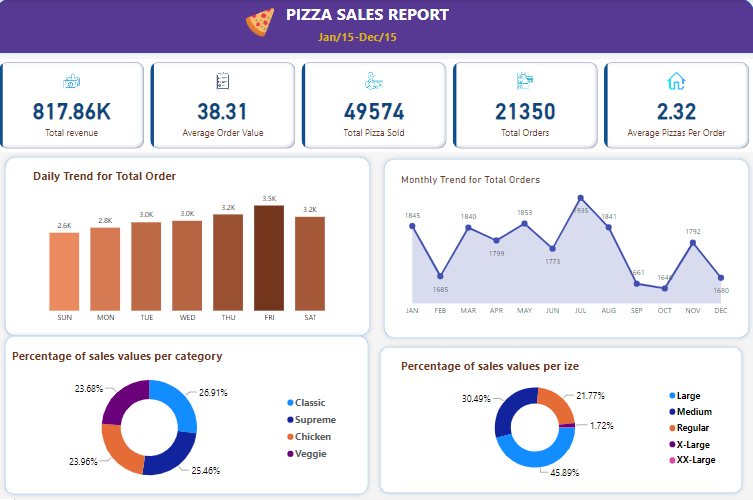

What the dashboard file says about the page in this screenshot:
{"tool":"powerbi","page":{"name":"Page 1","canvas":[1500,820],"ordinal":0},"visuals":[{"type":"cardVisual","fields":{"Data":["schema1 pizza_sales.Total revenue","schema1 pizza_sales.Average Order Value","schema1 pizza_sales.Total Pizza Sold","schema1 pizza_sales.Total Orders","schema1 pizza_sales.Average Pizzas Per Order"]},"box":[146,98.4,1243.1,152.5],"z":0},{"type":"shape","box":[146,0,1243.1,88.6],"z":1000},{"type":"textbox","box":[592,0,326.4,65.6],"z":2000},{"type":"textbox","box":[669.1,44.3,172.2,54.1],"z":3000},{"type":"image","box":[549.4,4.9,59,67.2],"z":4000},{"type":"shape","box":[152.5,250.9,615,310],"z":5000},{"type":"columnChart","title":"Daily Trend for Total Order","fields":{"Y":["schema1 pizza_sales.Total Orders"],"Category":["schema1 pizza_sales.Order Day"]},"box":[201.7,277.2,516.6,264],"z":6000},{"type":"shape","box":[774.1,254.2,615,310],"z":7000},{"type":"areaChart","title":"Monthly Trend for Total Orders","fields":{"Category":["schema1 pizza_sales.Order Month"],"Y":["schema1 pizza_sales.Total Orders"]},"box":[805.2,285.4,552.7,242.7],"z":8000},{"type":"shape","box":[152.5,544.5,611.7,275.5],"z":9000},{"type":"shape","box":[767.5,562.5,610.1,255.8],"z":10000},{"type":"donutChart","title":"Percentage of sales values per category","fields":{"Y":["schema1 pizza_sales.Total revenue"],"Category":["schema1 pizza_sales.pizza_category"]},"box":[167.3,572.4,551,236.2],"z":12000},{"type":"donutChart","title":"Percentage of sales values per size","fields":{"Y":["schema1 pizza_sales.Total revenue"],"Category":["schema1 pizza_sales.pizza_size"]},"box":[805.2,588.8,534.6,203.4],"z":13000}]}

Visuals, with their boxes on the page's 1500x820 design canvas (x1, y1, x2, y2). These are canvas units, not pixel positions in the 753x500 screenshot, which may show the page scaled, cropped or inside an application window:
cardVisual - schema1 pizza_sales.Total revenue x schema1 pizza_sales.Average Order Value: 146 98 1389 251
shape: 146 0 1389 89
textbox: 592 0 918 66
textbox: 669 44 841 98
image: 549 5 608 72
shape: 152 251 768 561
"Daily Trend for Total Order" columnChart: 202 277 718 541
shape: 774 254 1389 564
"Monthly Trend for Total Orders" areaChart: 805 285 1358 528
shape: 152 544 764 820
shape: 768 562 1378 818
"Percentage of sales values per category" donutChart: 167 572 718 809
"Percentage of sales values per size" donutChart: 805 589 1340 792
